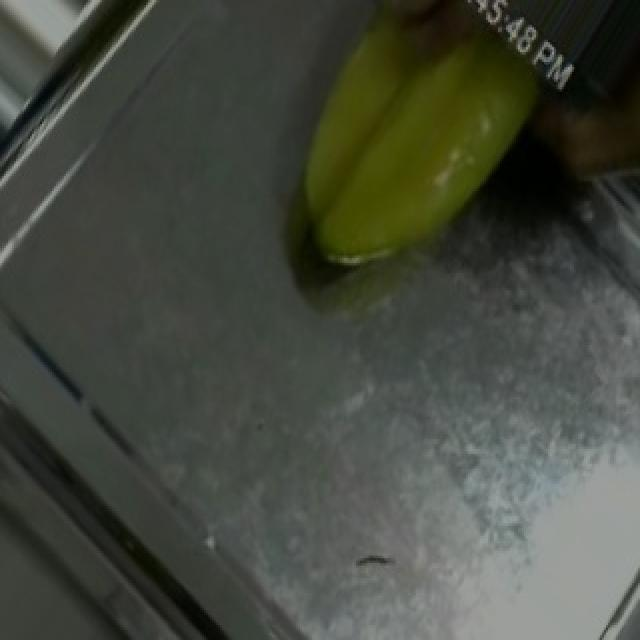fruit: (234, 0, 574, 315)
